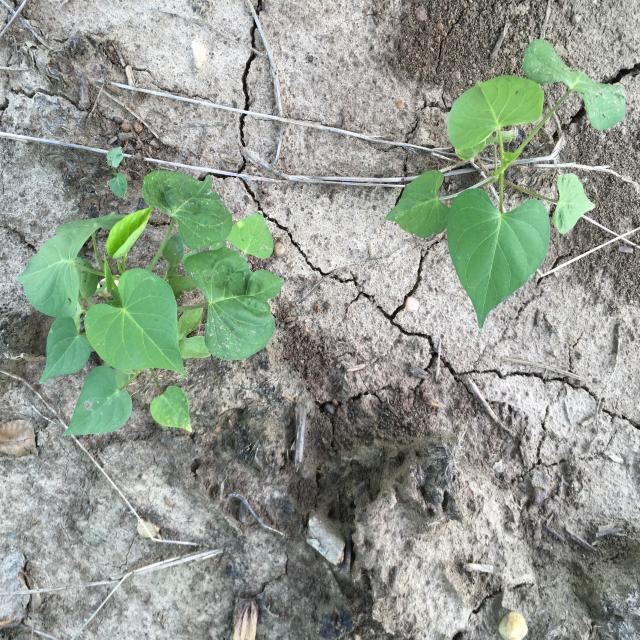MorningGlory: (16, 170, 286, 437), (384, 38, 626, 330), (106, 147, 128, 200)
